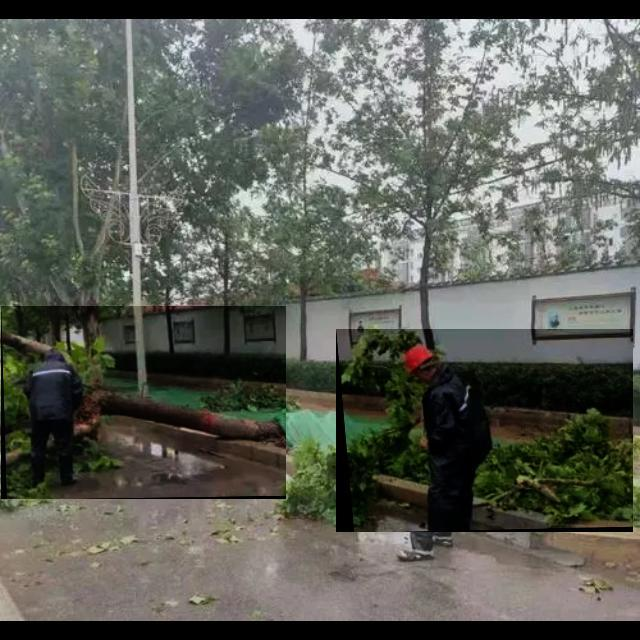fallen_tree: (336, 329, 634, 533), (1, 306, 287, 500)
